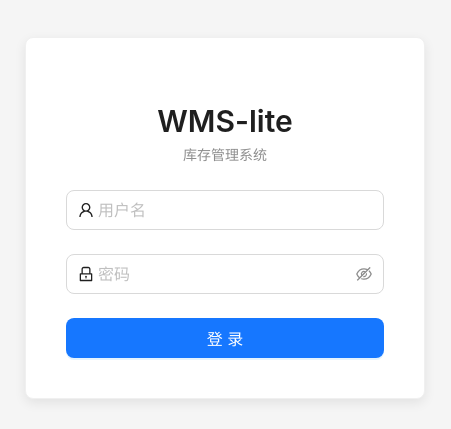
Test: LoginPage › shows validation errors on empty submit
Click the button "登 录": point(225, 338) [66,318,384,358]
(page scrolled)
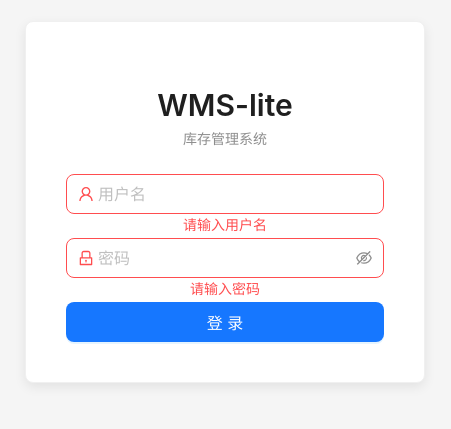
expect the text "请输入用户名" is shown: met, box [183,216,267,233]
expect the text "请输入密码" is shown: met, box [190,280,260,297]
